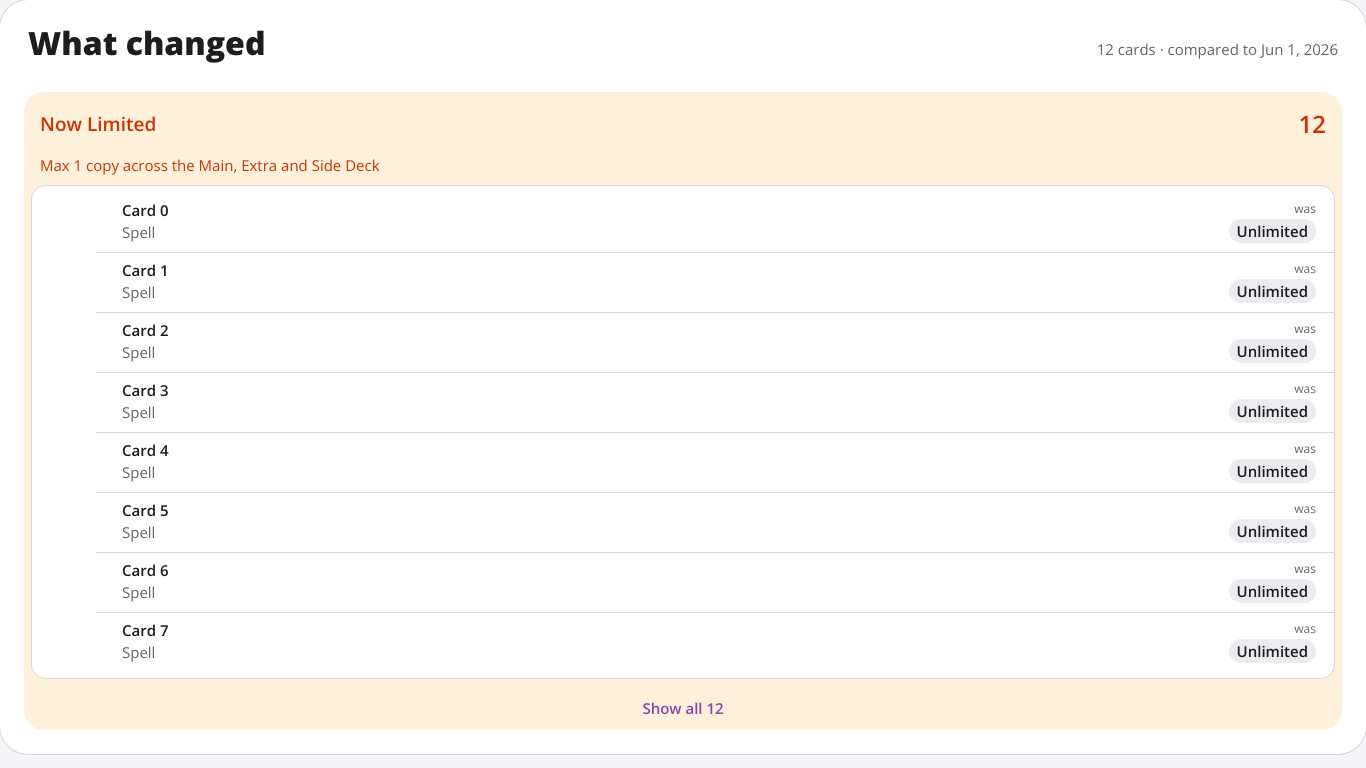
shows 8 rows per column and the rest in a popup
Click the button "Show all 12": (683, 708) [24,686,1342,730]
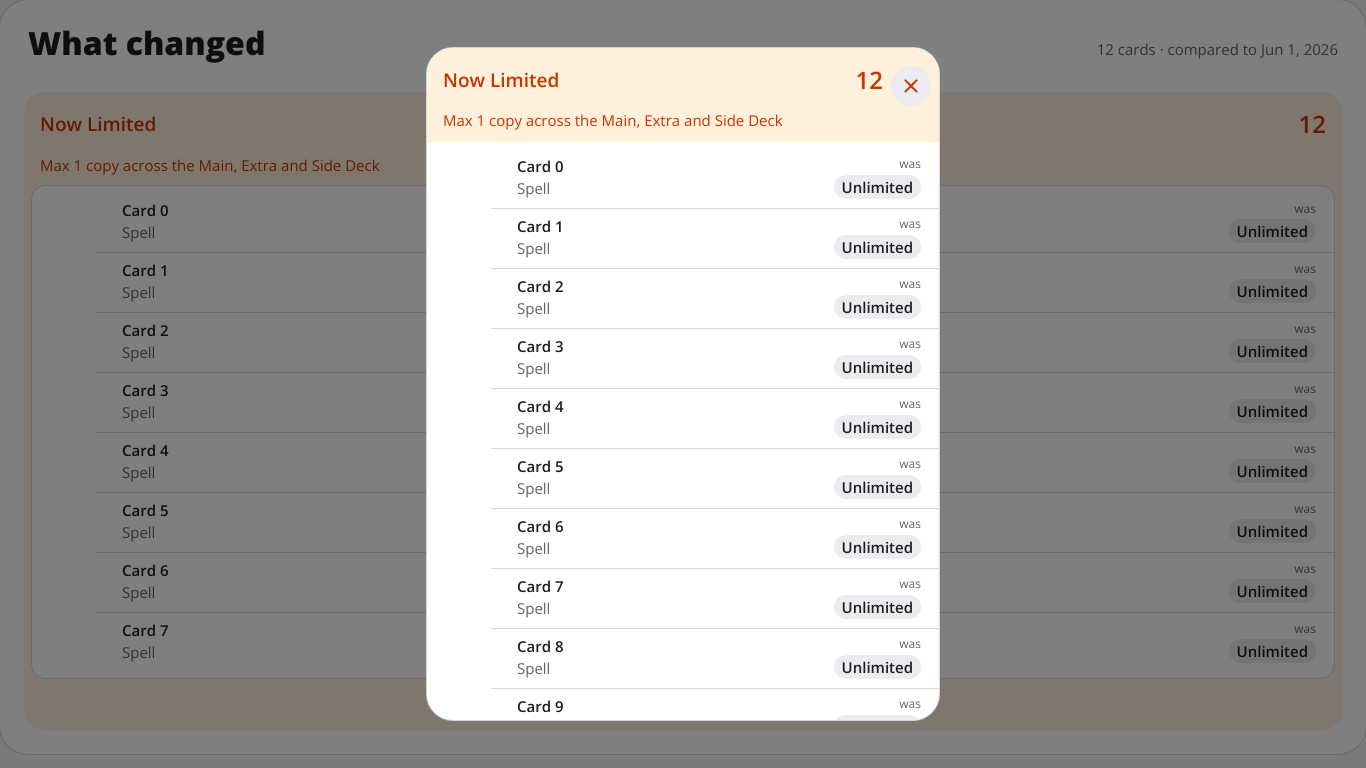
Result: the text "Max 1 copy across the Main, Extra and Side Deck" is shown at [443,110,783,130]
Click the button named "Close": (911, 86) [891,66,931,106]
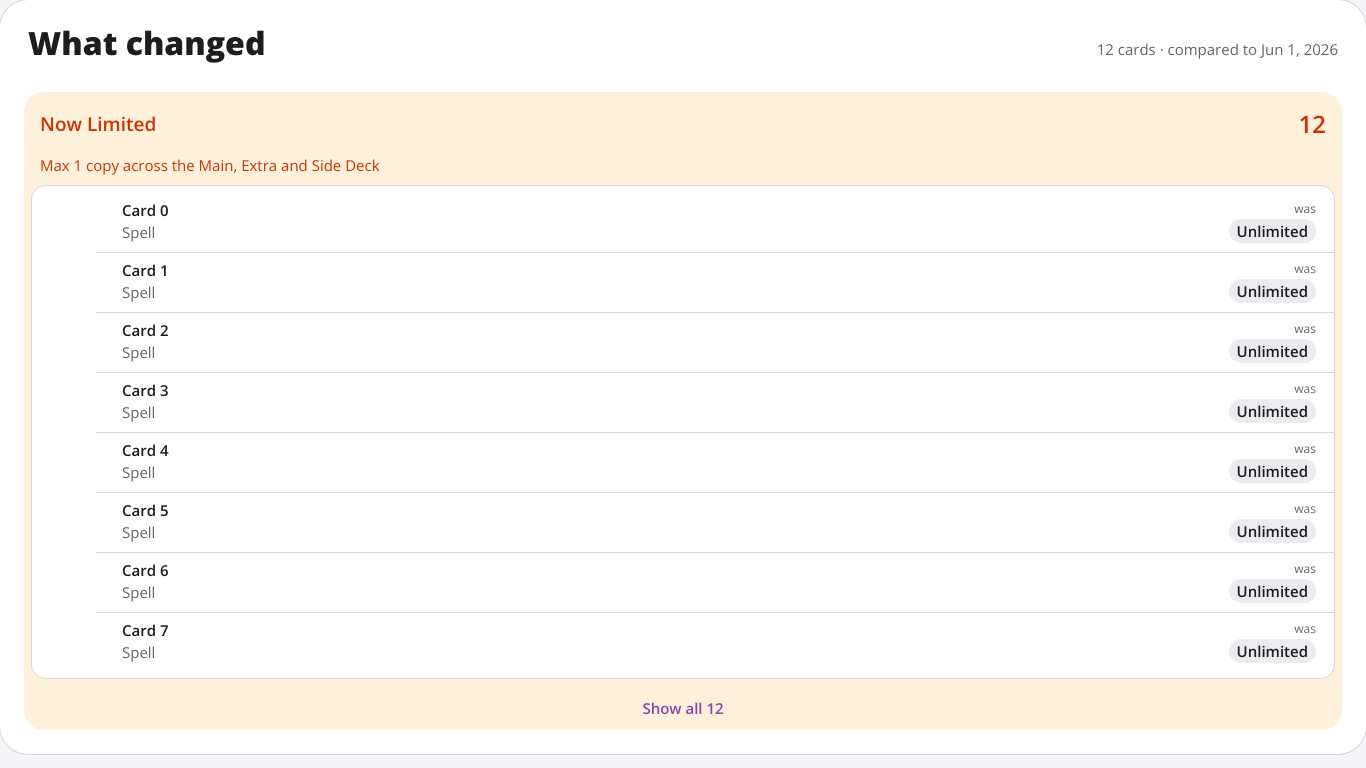
Result: the dialog is gone
